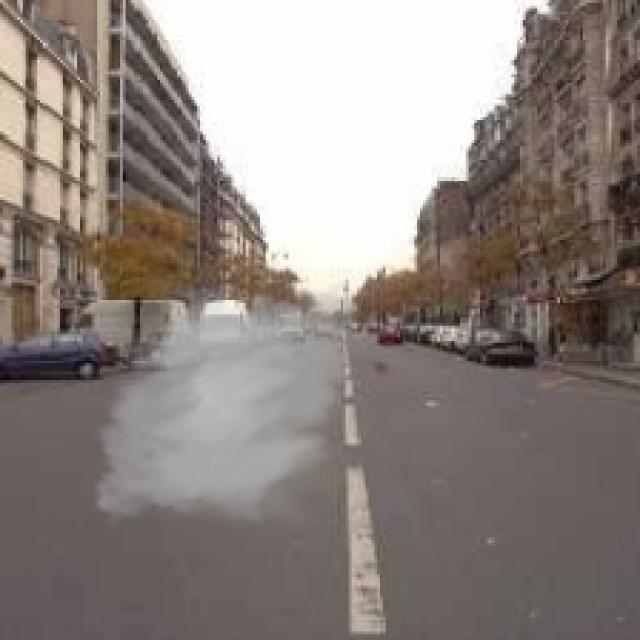Smoke: (83, 272, 366, 542)
